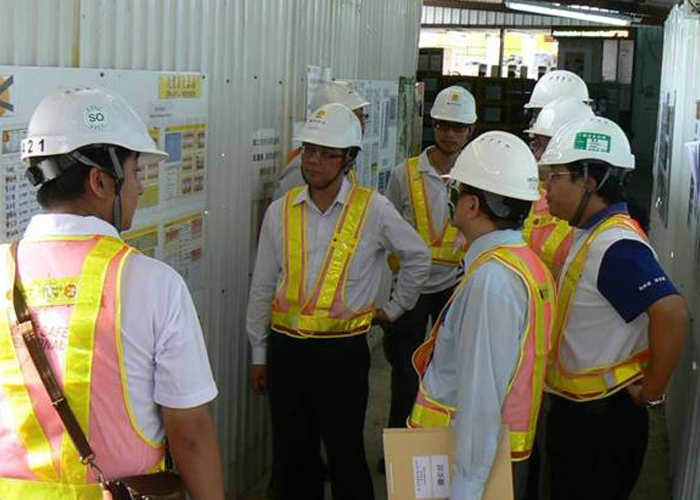epi: (4, 85, 221, 500), (247, 100, 423, 500), (538, 115, 691, 500), (407, 130, 555, 500), (386, 84, 485, 262)
